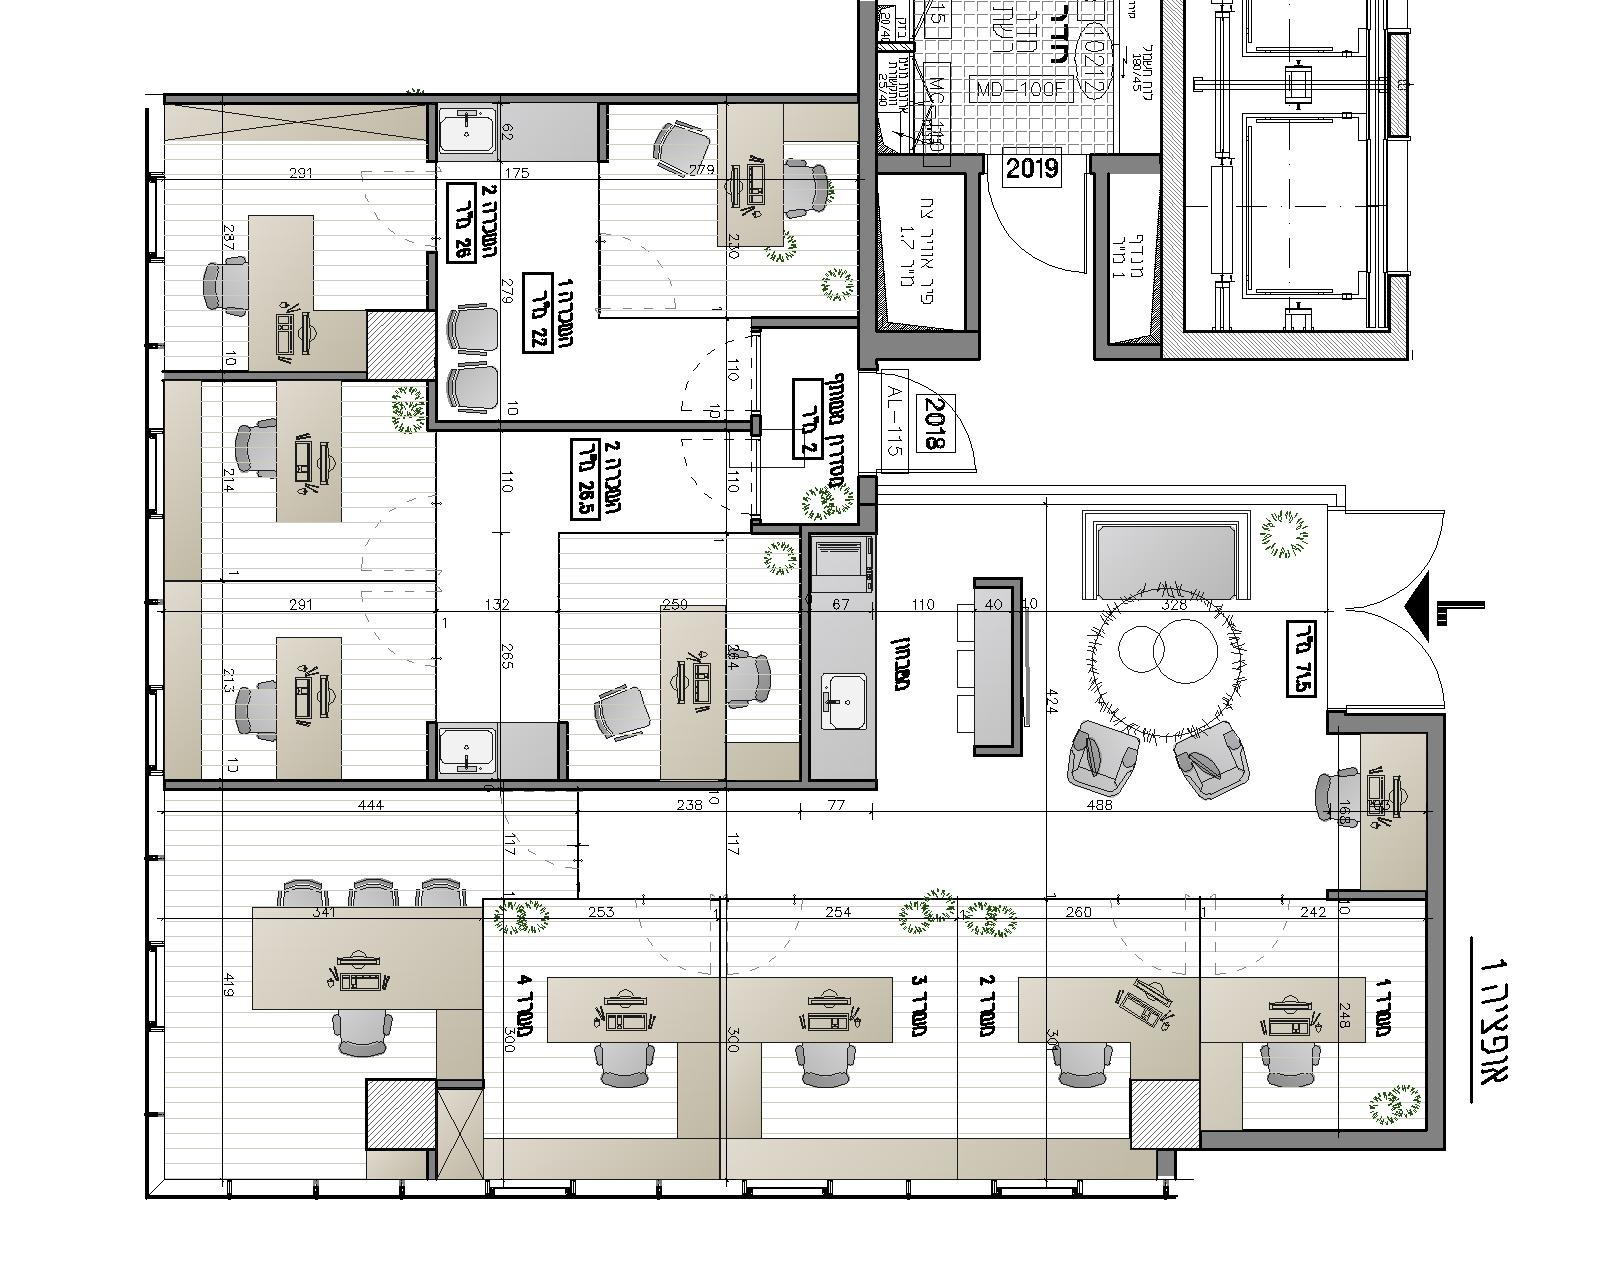door: (882, 364, 990, 481), (1351, 502, 1463, 609), (981, 182, 1095, 287), (1343, 607, 1456, 713), (677, 434, 748, 515), (677, 334, 748, 414)
wall: (168, 780, 876, 790), (1428, 714, 1443, 1130), (165, 94, 859, 103), (859, 89, 876, 359), (1200, 1132, 1445, 1151), (963, 154, 982, 333), (1093, 154, 1109, 359)
window: (145, 432, 165, 520), (146, 686, 165, 775), (148, 175, 166, 263), (148, 944, 166, 1032), (993, 1179, 1081, 1195), (486, 1179, 573, 1195), (743, 1179, 831, 1195)
